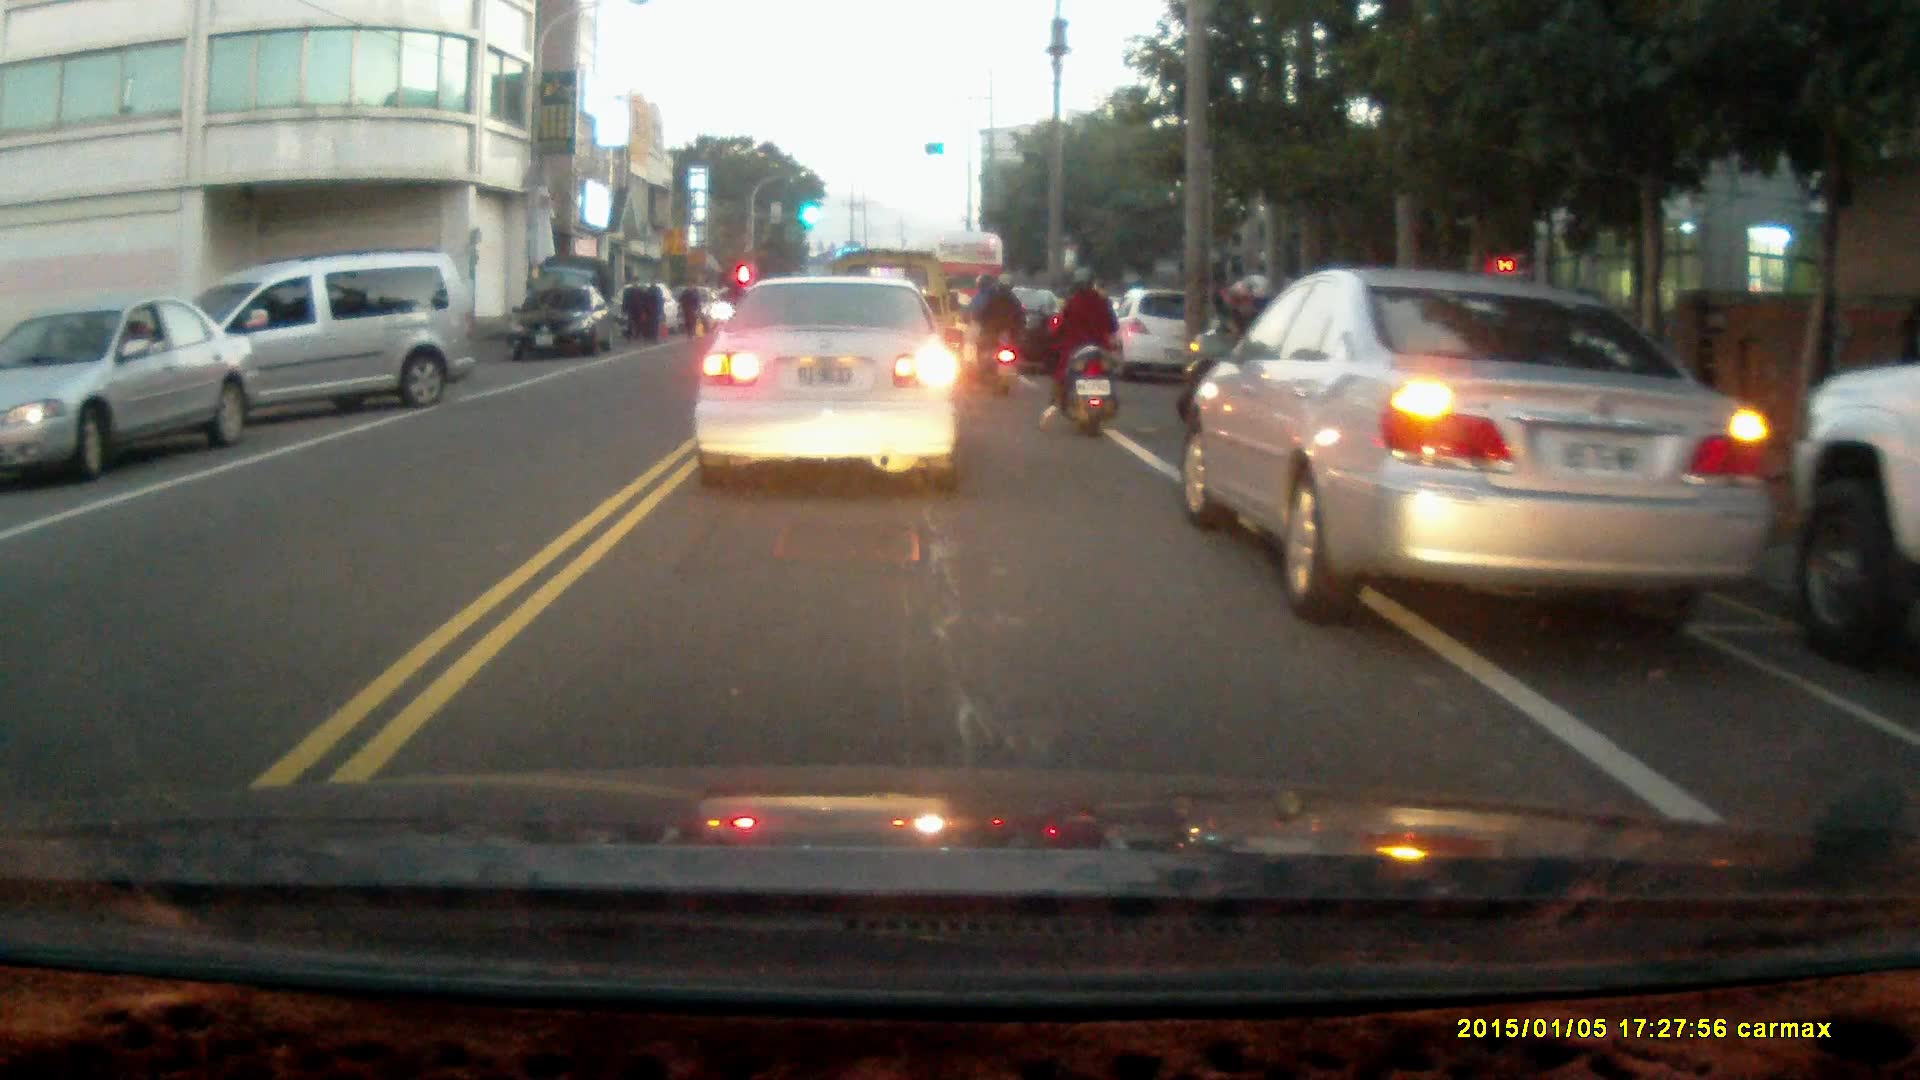pedestrian: (674, 272, 702, 337), (618, 271, 644, 342), (639, 269, 660, 346)
rider: (1176, 273, 1301, 441), (1030, 262, 1122, 437), (957, 268, 1026, 394)
vehicle: (1177, 261, 1773, 625), (140, 251, 477, 436), (691, 273, 965, 491), (1, 295, 257, 483), (1785, 323, 1920, 664), (511, 280, 615, 359), (1110, 289, 1193, 386)
